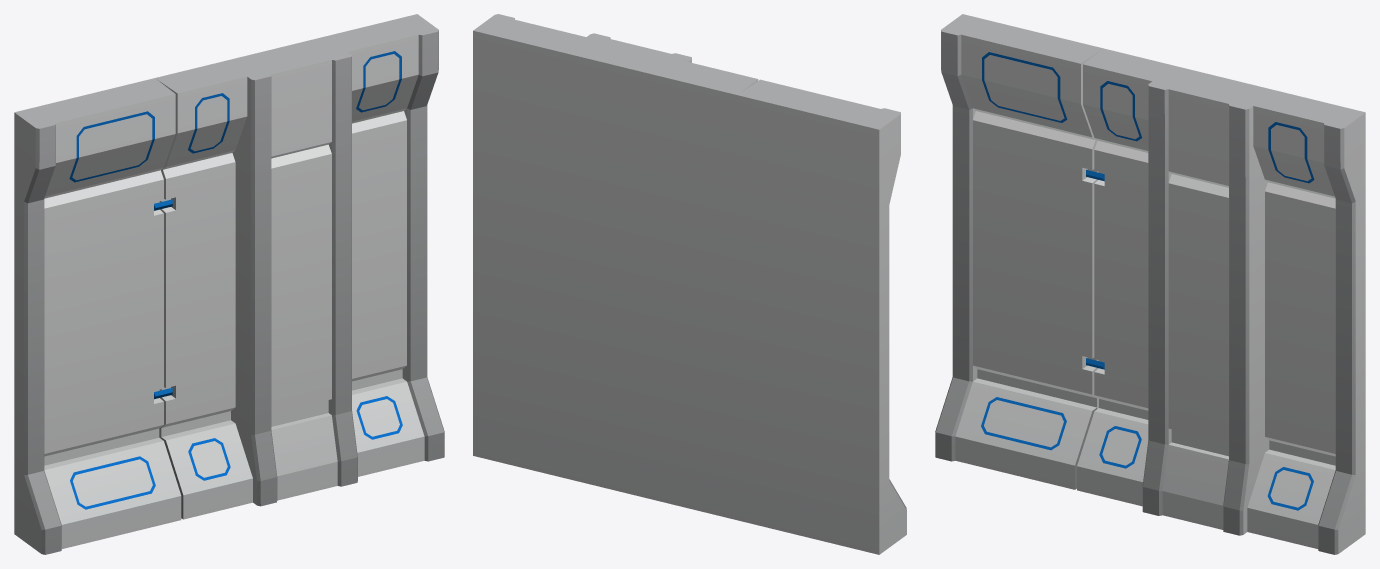
File: Wall_type_A_049.fbx
3 renders of one model, left to right at view 1: azimuth 30°, elevation 25°; view 2: azimuth 150°, elevation 25°; view 3: azimuth 330°, elevation 25°, orthographic.
Visible parts, largest first — view 1: Wall_type_A_049; view 2: Wall_type_A_049; view 3: Wall_type_A_049.
Boxes of the visible parts, box(x1,y1,x2,y2) form: Wall_type_A_049: box(14, 14, 444, 554); Wall_type_A_049: box(473, 14, 906, 554); Wall_type_A_049: box(935, 14, 1365, 554).
Bounding box in the file's own units: 400 × 57 × 400.
